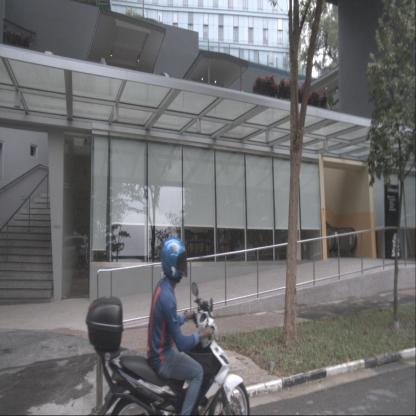vehicle-car: (49, 232, 90, 268)
vehicle-motorcycle: (86, 236, 250, 416)
